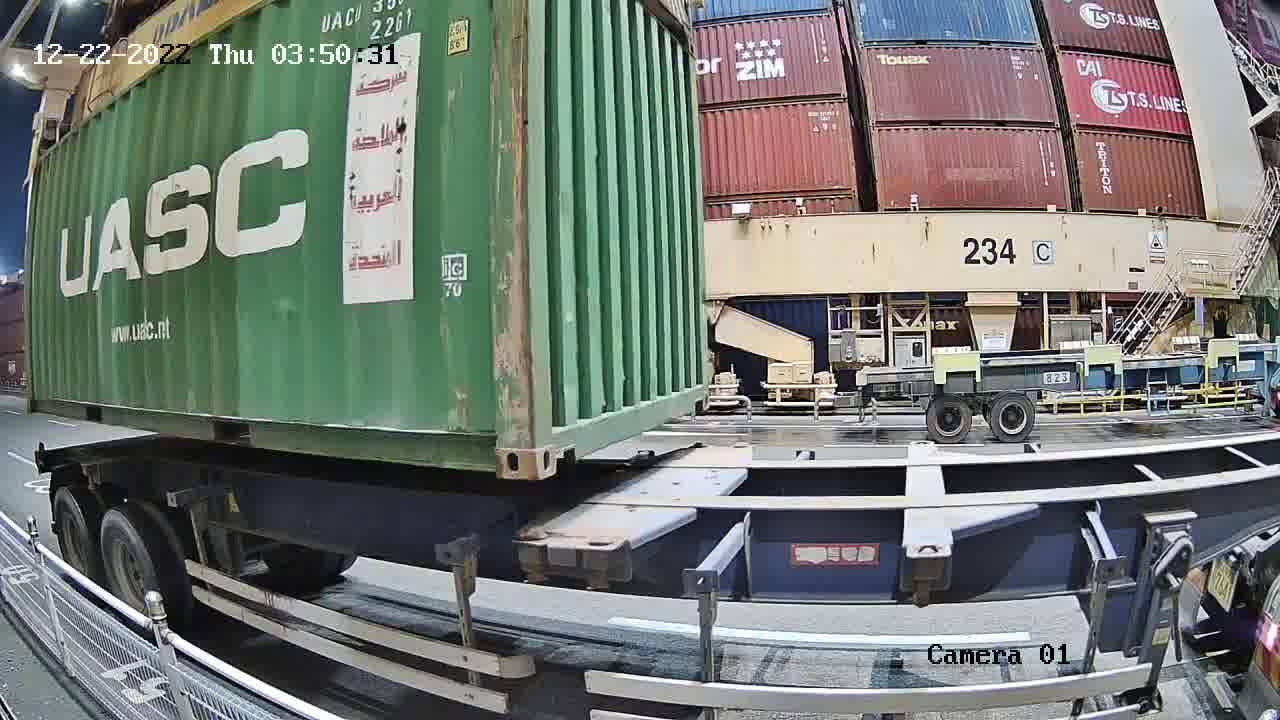Chassis: (517, 443, 714, 550), (583, 443, 750, 548)
Cone: (516, 524, 549, 582), (582, 549, 620, 592)
Hole_L: (533, 404, 579, 481)
Hole_R: (462, 412, 534, 481), (683, 369, 712, 417)
Tire: (101, 514, 159, 636), (53, 490, 96, 592)
